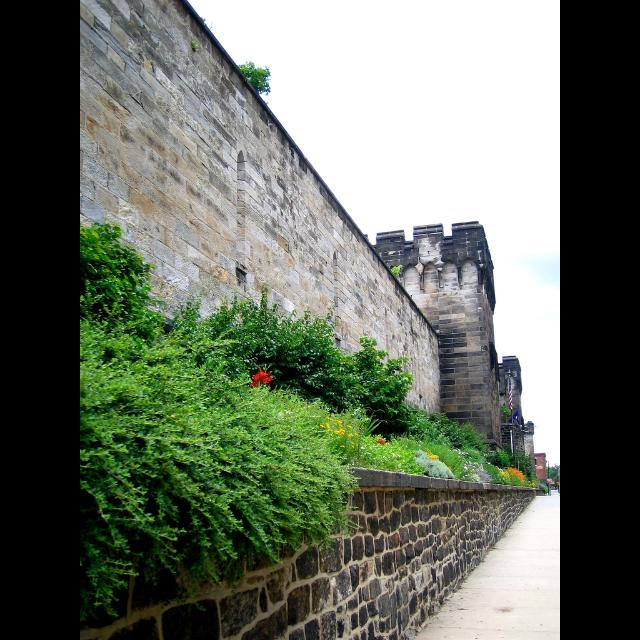Flower: (322, 414, 368, 452), (462, 464, 524, 486), (246, 365, 276, 385)
